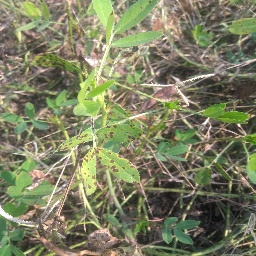GroundNut_Leaf: (99, 145, 142, 186), (116, 1, 158, 30), (112, 31, 162, 50), (81, 146, 98, 196), (97, 124, 145, 140), (92, 1, 114, 28), (88, 78, 117, 98), (75, 101, 103, 118), (228, 19, 256, 36), (219, 110, 253, 124), (192, 167, 212, 187), (14, 171, 34, 190), (164, 144, 189, 158), (10, 226, 27, 243), (175, 220, 201, 230), (24, 101, 36, 119)
